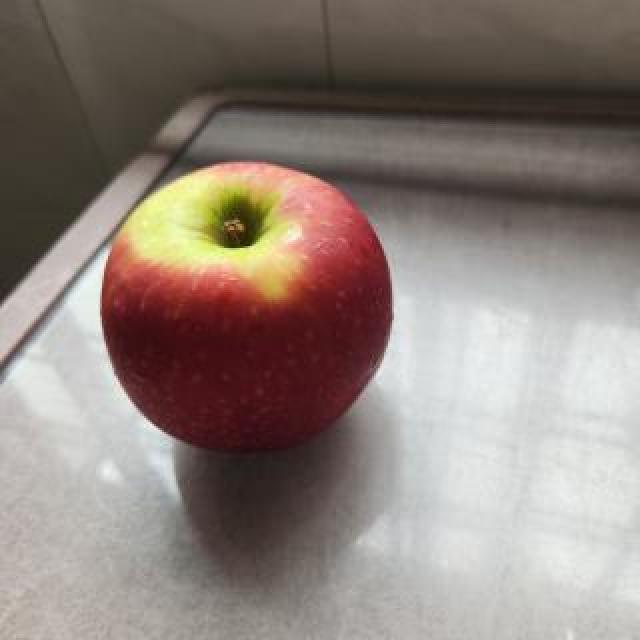Fresh Apple: (113, 167, 369, 429)
